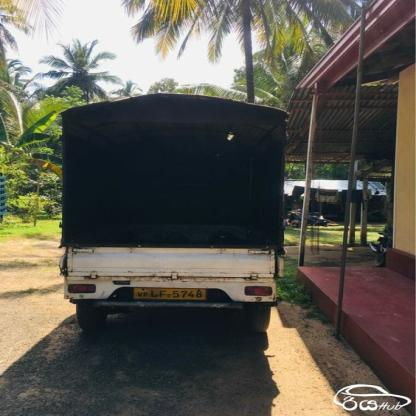Lorry back: (54, 93, 285, 342)
number plate: (124, 283, 212, 306)
